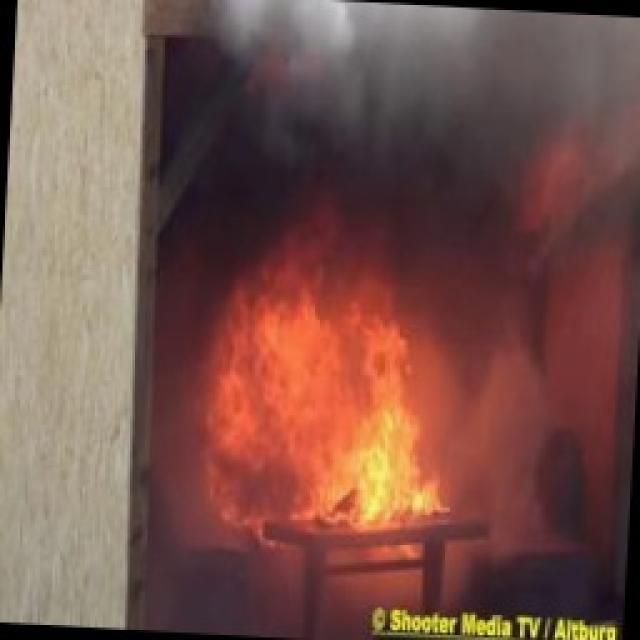fire: (194, 245, 501, 553)
